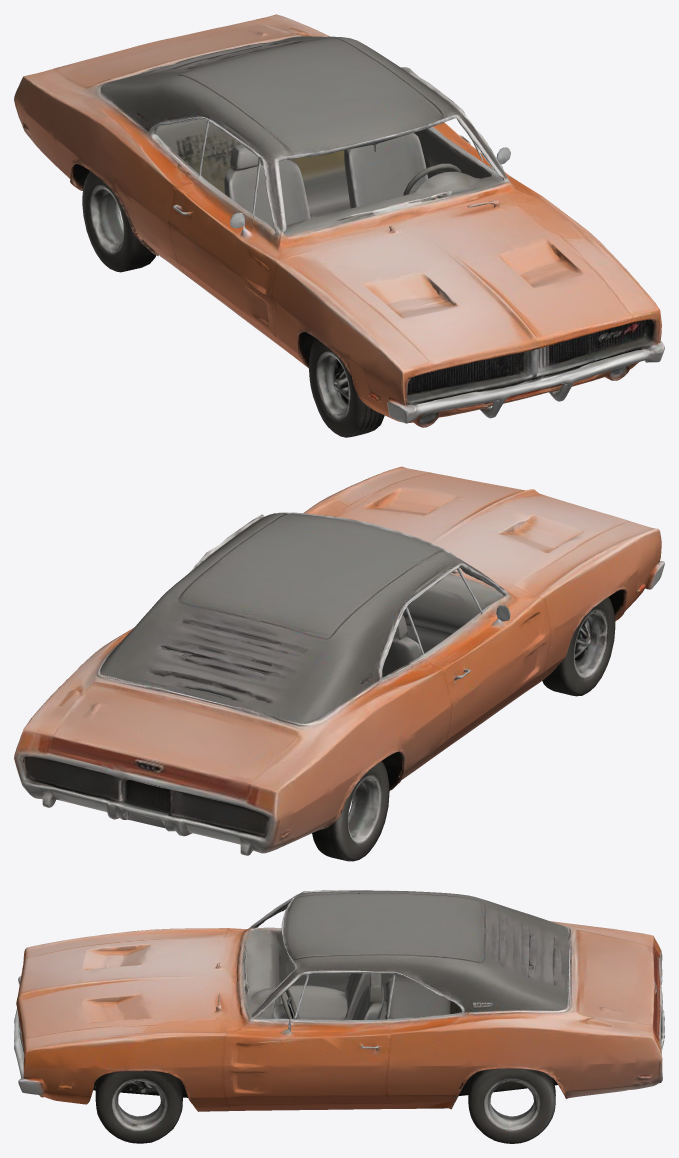
File: carro_classico.glb
3 views of the same model, one above another, from view 1: azimuth 30°, elevation 25°; view 2: azimuth 150°, elevation 25°; view 3: azimuth 270°, elevation 25° (orthographic). The views are drawn at different scales.
Parts seen in each view (by area): view 1: tripo_node_40f4d40d-4169-4c5c-a7d9-583fa53ae4a7; view 2: tripo_node_40f4d40d-4169-4c5c-a7d9-583fa53ae4a7; view 3: tripo_node_40f4d40d-4169-4c5c-a7d9-583fa53ae4a7.
Boxes of the visible parts, x1,y1,x2,y2 form: tripo_node_40f4d40d-4169-4c5c-a7d9-583fa53ae4a7: (14,14,664,437); tripo_node_40f4d40d-4169-4c5c-a7d9-583fa53ae4a7: (14,466,664,861); tripo_node_40f4d40d-4169-4c5c-a7d9-583fa53ae4a7: (14,890,664,1143).
Bounding box in the file's own units: 2.11 × 1.45 × 5.
1 material, 1 textured.
